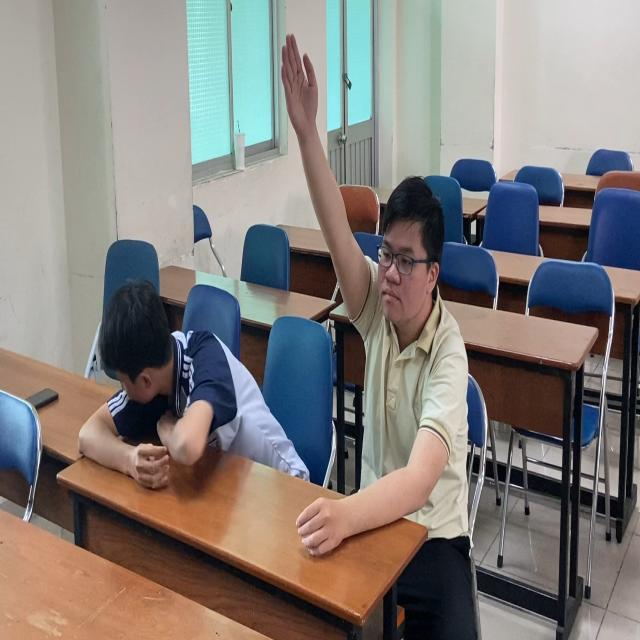raise_hand: (278, 32, 468, 484)
sleep: (74, 274, 267, 494)
